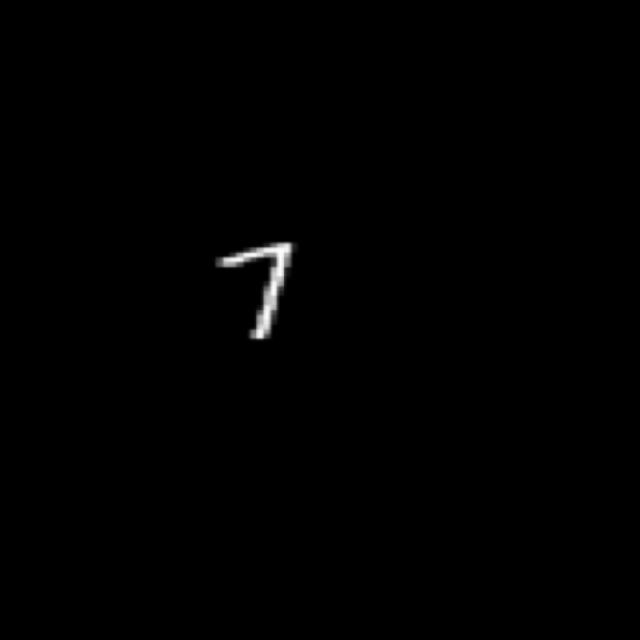seven -7-: (213, 236, 306, 344)
